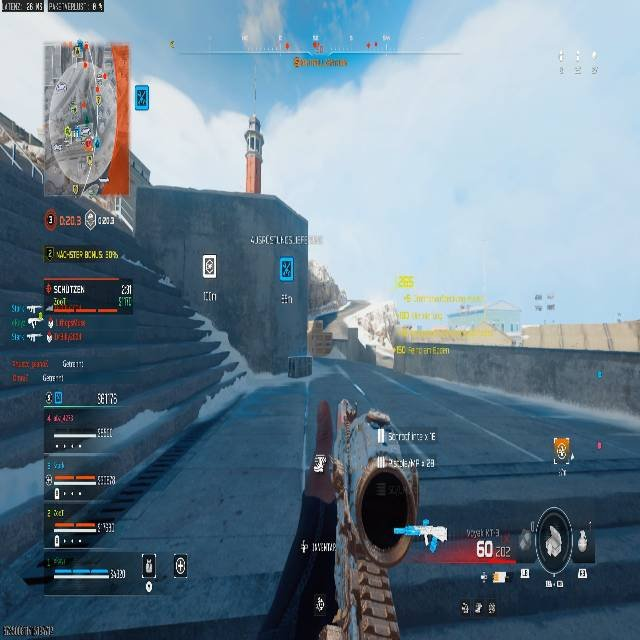player: (243, 113, 264, 161)
